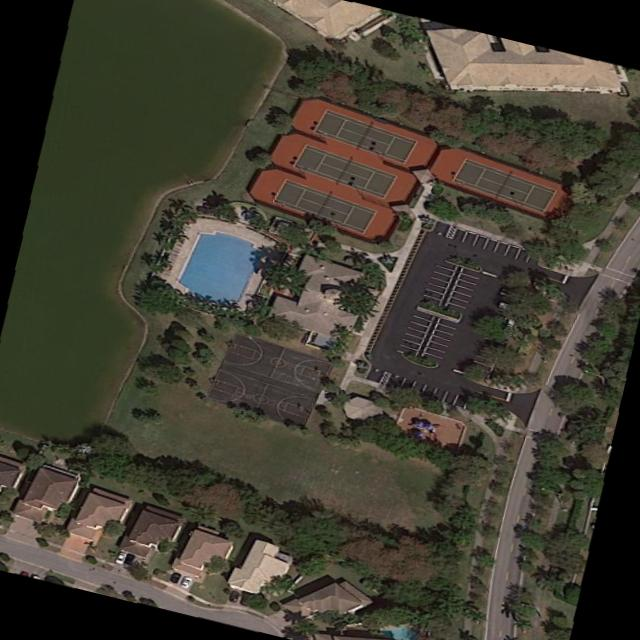small-vehicle: (491, 314, 515, 326), (494, 302, 518, 313), (113, 551, 126, 564), (179, 576, 191, 589), (226, 589, 237, 602), (168, 571, 178, 582), (123, 555, 134, 565)
